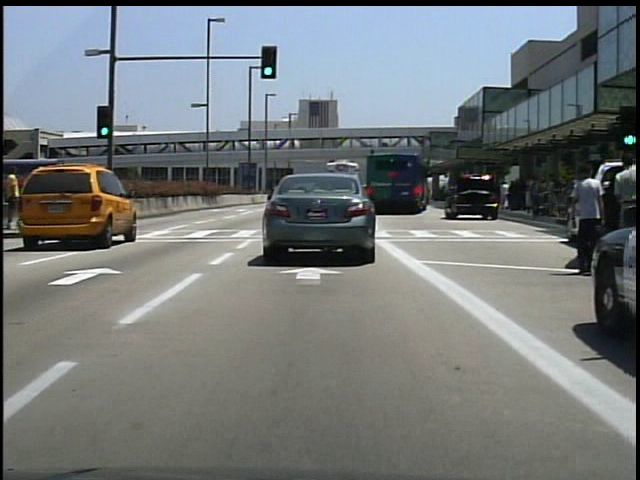person: (608, 149, 638, 281), (565, 158, 607, 241), (26, 167, 48, 226), (5, 165, 24, 232)
